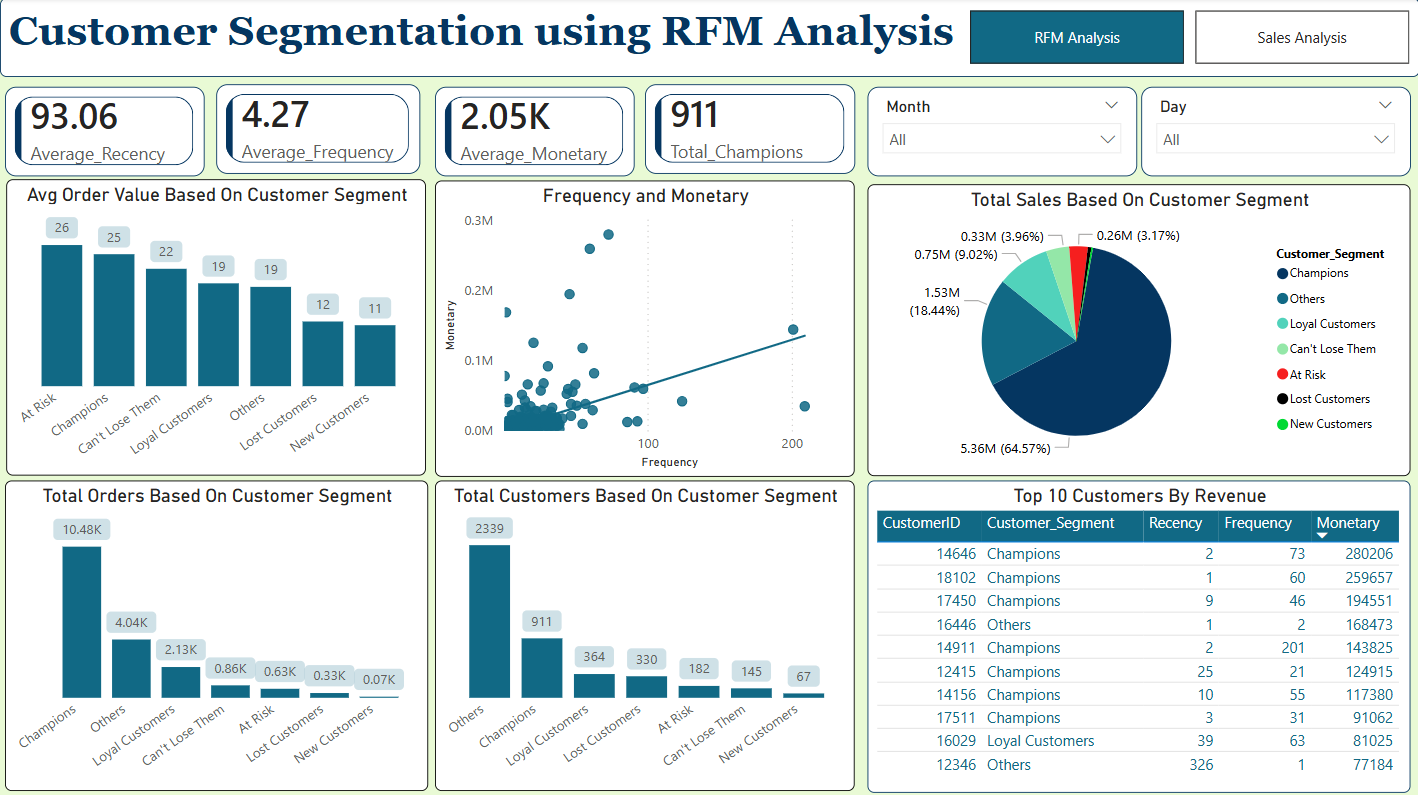

The page's visual inventory and layout, read from the dashboard file:
{"tool":"powerbi","page":{"name":"RFM Analysis","canvas":[1280,720],"ordinal":0},"visuals":[{"type":"textbox","box":[0,0,1280.3,71.4],"z":0},{"type":"cardVisual","fields":{"Data":["RFM Table.Average_Recency"]},"box":[4.1,79.6,179.8,81],"z":1000},{"type":"pageNavigator","box":[874.1,11,397.9,48],"z":2000},{"type":"cardVisual","fields":{"Data":["RFM Table.Average_Frequency"]},"box":[194.9,78.2,183.9,81],"z":3000},{"type":"cardVisual","fields":{"Data":["RFM Table.Average_Monetary"]},"box":[392.5,79.6,179.8,81],"z":4000},{"type":"cardVisual","fields":{"Data":["RFM Table.Total_Champions"]},"box":[581.8,78.2,189.4,81],"z":5000},{"type":"scatterChart","fields":{"X":["RFM Table.Frequency"],"Y":["RFM Table.Monetary"]},"box":[392.5,164.7,378.7,267.6],"z":6000},{"type":"pieChart","title":"Total Sales Based On Customer Segment","fields":{"Category":["RFM Table.Customer_Segment"],"Y":["Online Retail.Total_Sales"]},"box":[782.2,167.4,489.9,263.5],"z":7000},{"type":"clusteredColumnChart","title":"Total Orders Based On Customer Segment","fields":{"Category":["RFM Table.Customer_Segment"],"Y":["Online Retail.Total_Orders"]},"box":[4.1,435,381.5,279.9],"z":8000},{"type":"clusteredColumnChart","title":"Total Customers Based On Customer Segment","fields":{"Category":["RFM Table.Customer_Segment"],"Y":["Online Retail.Total_Customers"]},"box":[392.5,435,378.7,279.9],"z":9000},{"type":"clusteredColumnChart","title":"Avg Order Value Based On Customer Segment","fields":{"Category":["RFM Table.Customer_Segment"],"Y":["Online Retail.AOV"]},"box":[5.5,163.3,378.7,267.6],"z":10000},{"type":"tableEx","title":"Top 10 Customers By Revenue","fields":{"Values":["RFM Table.CustomerID","RFM Table.Customer_Segment","RFM Table.Recency","RFM Table.Frequency","RFM Table.Monetary"]},"box":[782.2,435,489.9,281.3],"z":11000},{"type":"slicer","fields":{"Values":["Calendar.Month"]},"box":[782.2,79.6,242.9,81],"z":11001},{"type":"slicer","fields":{"Values":["Calendar.Day"]},"box":[1029.2,79.6,242.9,81],"z":11002}]}

Visuals, with their boxes in screenshot pixels (x1, y1, x2, y2), scaled from the page's 1280x720 canvas onto the 1418x795 screenshot:
textbox: x1=0 y1=0 x2=1417 y2=79
cardVisual - RFM Table.Average_Recency: x1=5 y1=88 x2=204 y2=177
pageNavigator: x1=968 y1=12 x2=1409 y2=65
cardVisual - RFM Table.Average_Frequency: x1=216 y1=86 x2=420 y2=176
cardVisual - RFM Table.Average_Monetary: x1=435 y1=88 x2=634 y2=177
cardVisual - RFM Table.Total_Champions: x1=645 y1=86 x2=854 y2=176
scatterChart - RFM Table.Frequency x RFM Table.Monetary: x1=435 y1=182 x2=854 y2=477
"Total Sales Based On Customer Segment" pieChart: x1=867 y1=185 x2=1409 y2=476
"Total Orders Based On Customer Segment" clusteredColumnChart: x1=5 y1=480 x2=427 y2=789
"Total Customers Based On Customer Segment" clusteredColumnChart: x1=435 y1=480 x2=854 y2=789
"Avg Order Value Based On Customer Segment" clusteredColumnChart: x1=6 y1=180 x2=426 y2=476
"Top 10 Customers By Revenue" tableEx: x1=867 y1=480 x2=1409 y2=791
slicer - Calendar.Month: x1=867 y1=88 x2=1136 y2=177
slicer - Calendar.Day: x1=1140 y1=88 x2=1409 y2=177
